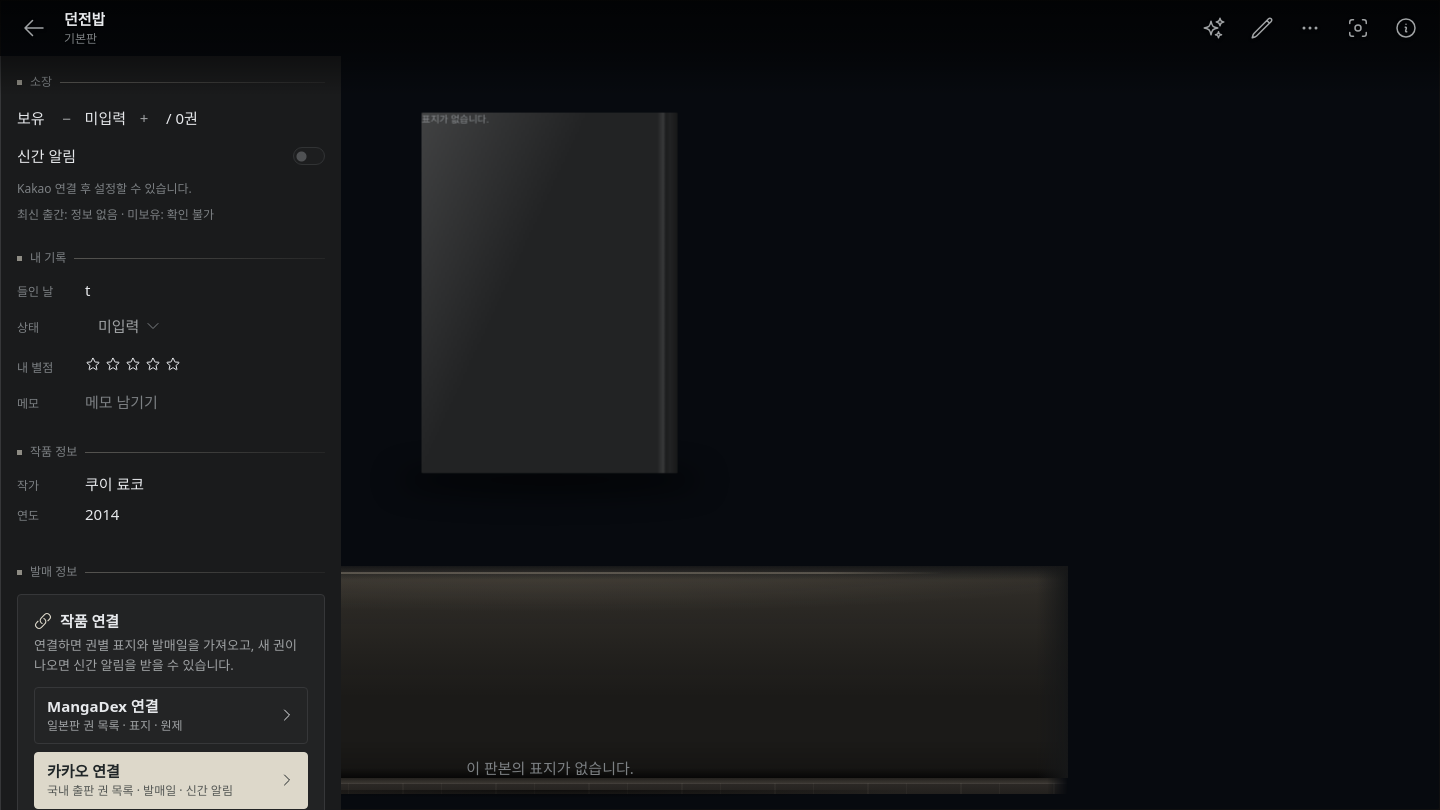
Test: CollectionOverlay MangaDex flow › lets the 편집 dialog handle Escape without exiting detail
This screenshot has width=1440, height=810.
Click the button named "편집". click: (1262, 28)
box: [1244, 10, 1280, 46]
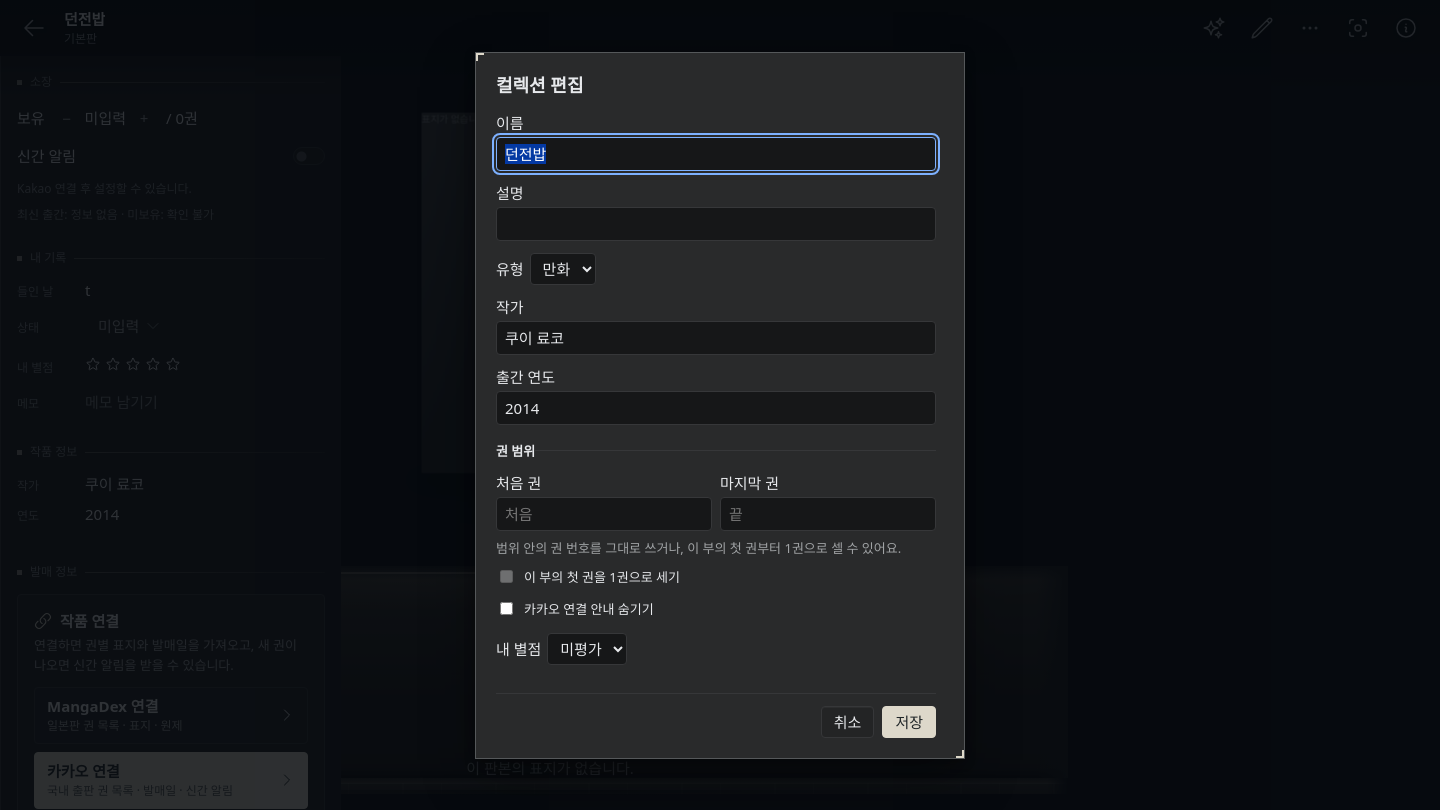
Result: the dialog "컬렉션 편집" is shown at [475, 52, 965, 758]
Press Escape
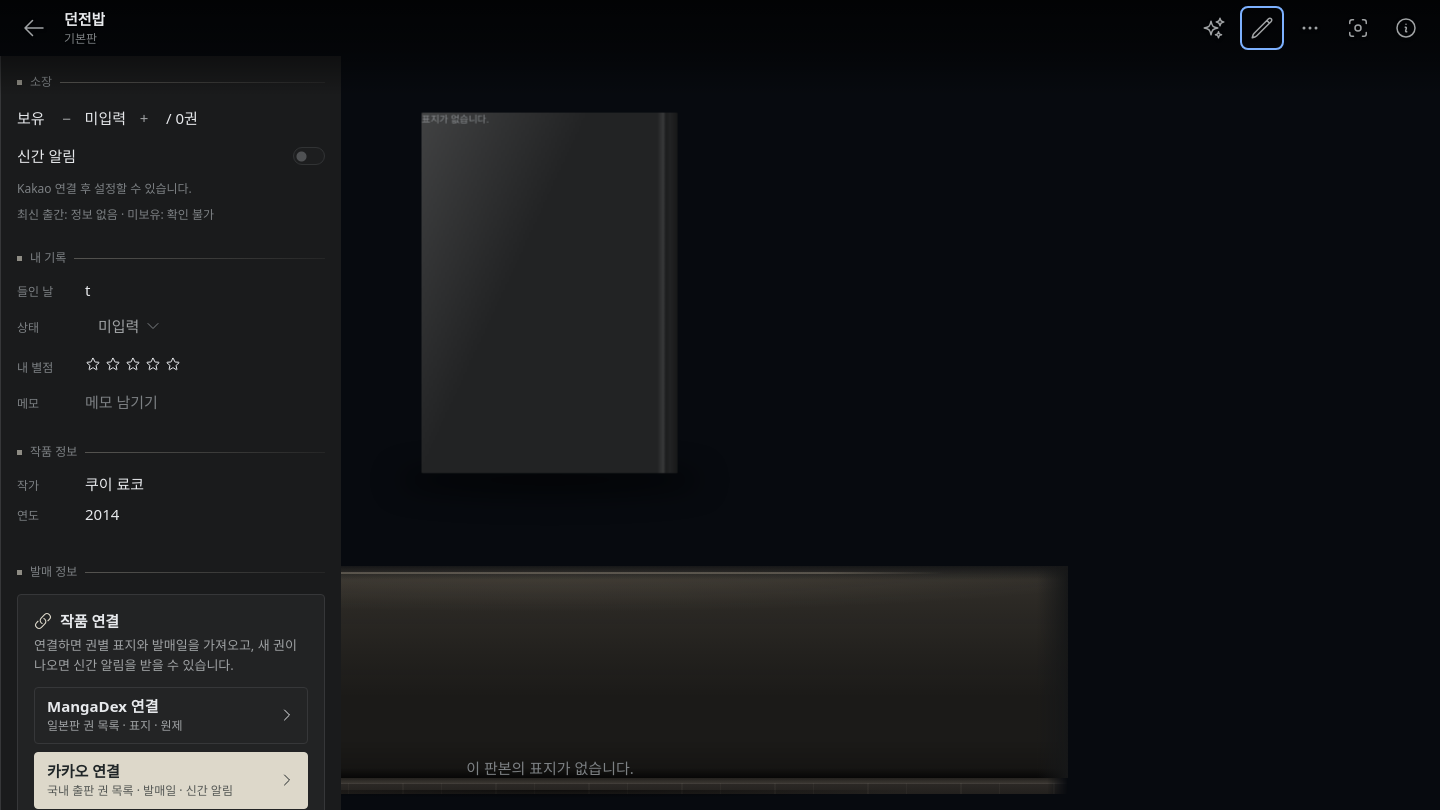
Result: the heading "컬렉션 편집" is gone
